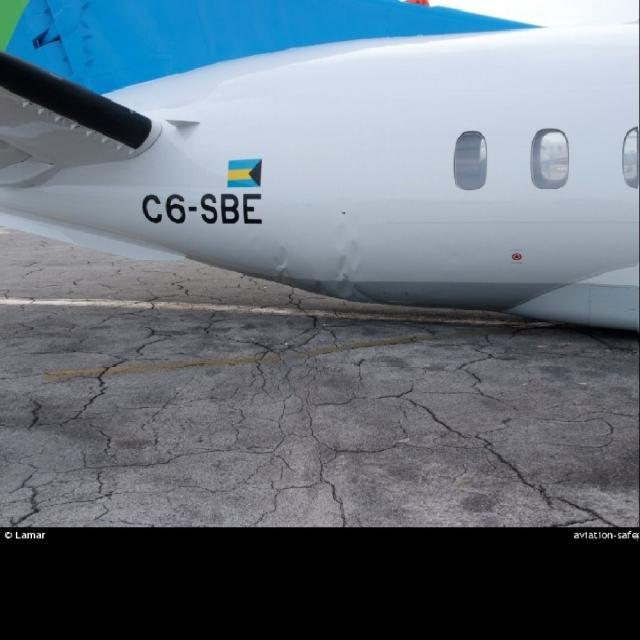dent: (326, 218, 368, 305), (274, 244, 295, 286)
